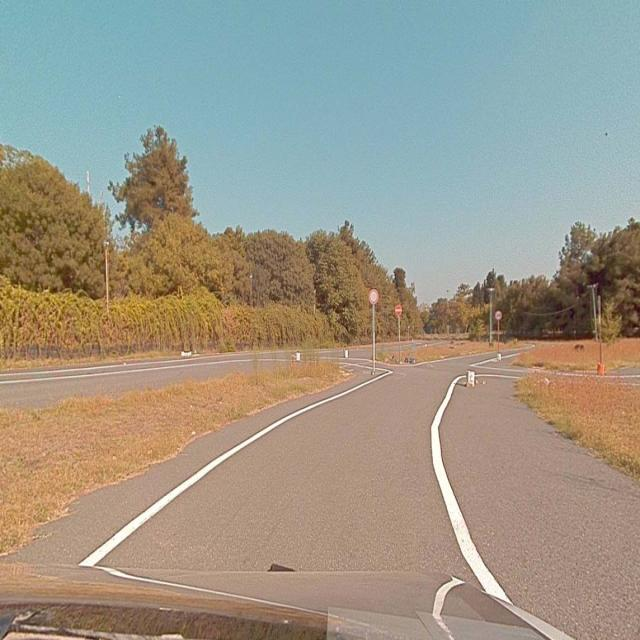girisyok: (395, 304, 402, 316)
